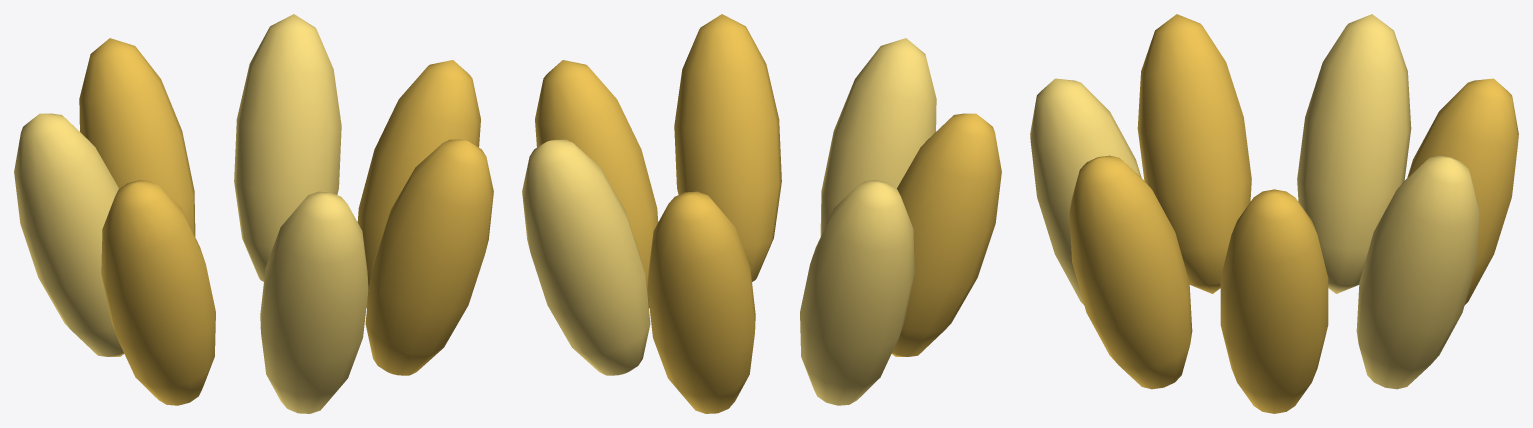
Rendered from SM_BFF_RiceGrain.fbx.
The picture shows the model from 3 angles, left to right: view 1: azimuth 30°, elevation 25°; view 2: azimuth 150°, elevation 25°; view 3: azimuth 270°, elevation 25°; orthographic projection.
Visible parts, largest first — view 1: SM_BFF_RiceGrain; view 2: SM_BFF_RiceGrain; view 3: SM_BFF_RiceGrain.
Part boxes in pixels (left/top/right/bottom): SM_BFF_RiceGrain: left=14, top=14, right=493, bottom=413; SM_BFF_RiceGrain: left=522, top=14, right=1001, bottom=413; SM_BFF_RiceGrain: left=1030, top=14, right=1518, bottom=413.
Bounding box in the file's own units: 2.36 × 2.39 × 1.34.
